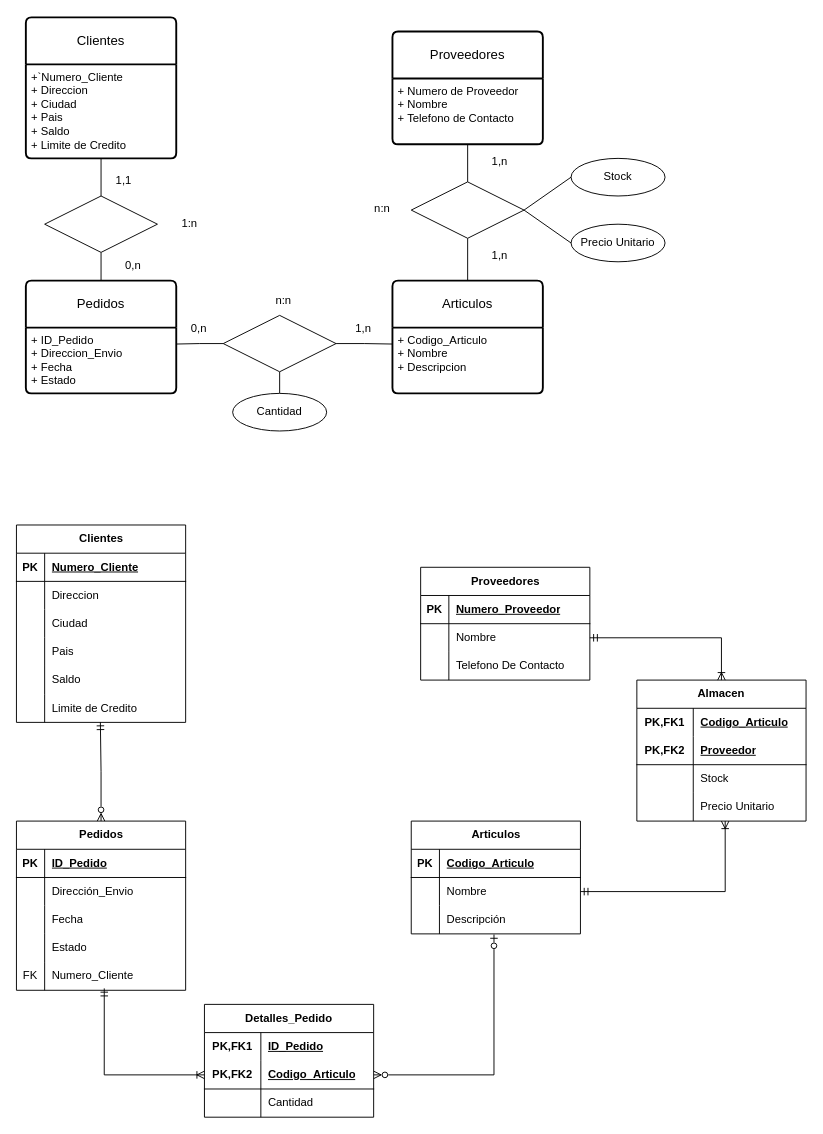
The diagram is 823 pixels wide and 1134 high, and some of its shapes have lost their labels. The centre of each missing label's shape, as x and y in pixels:
"Contiene" goes at (x=279, y=343).
"Realiza" goes at (x=100, y=223).
"Suministra" goes at (x=467, y=209).
